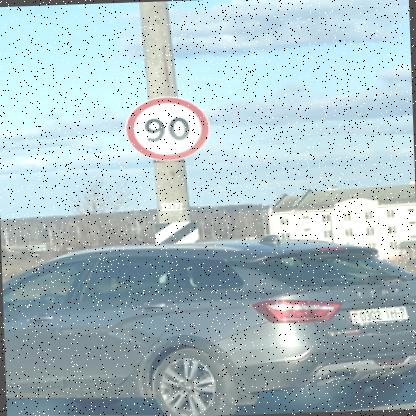speedlimit: (122, 94, 207, 161)
